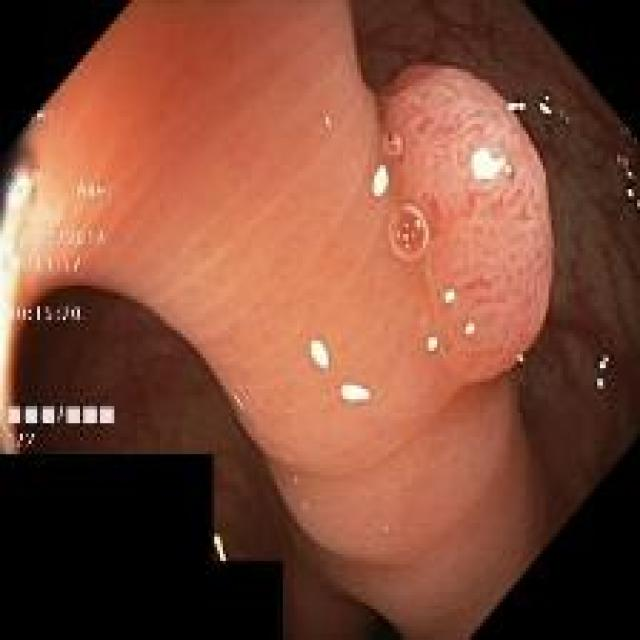Polyps: (380, 65, 552, 385)
